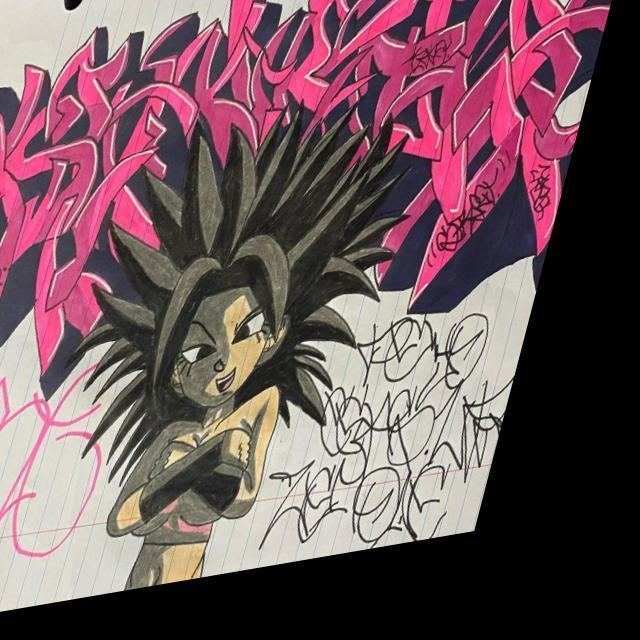-: (0, 0, 639, 408), (39, 83, 463, 616), (328, 314, 557, 578), (0, 366, 156, 600), (446, 191, 518, 282), (532, 168, 582, 258), (402, 48, 468, 94), (0, 266, 34, 323), (570, 138, 594, 182), (0, 178, 11, 260)
